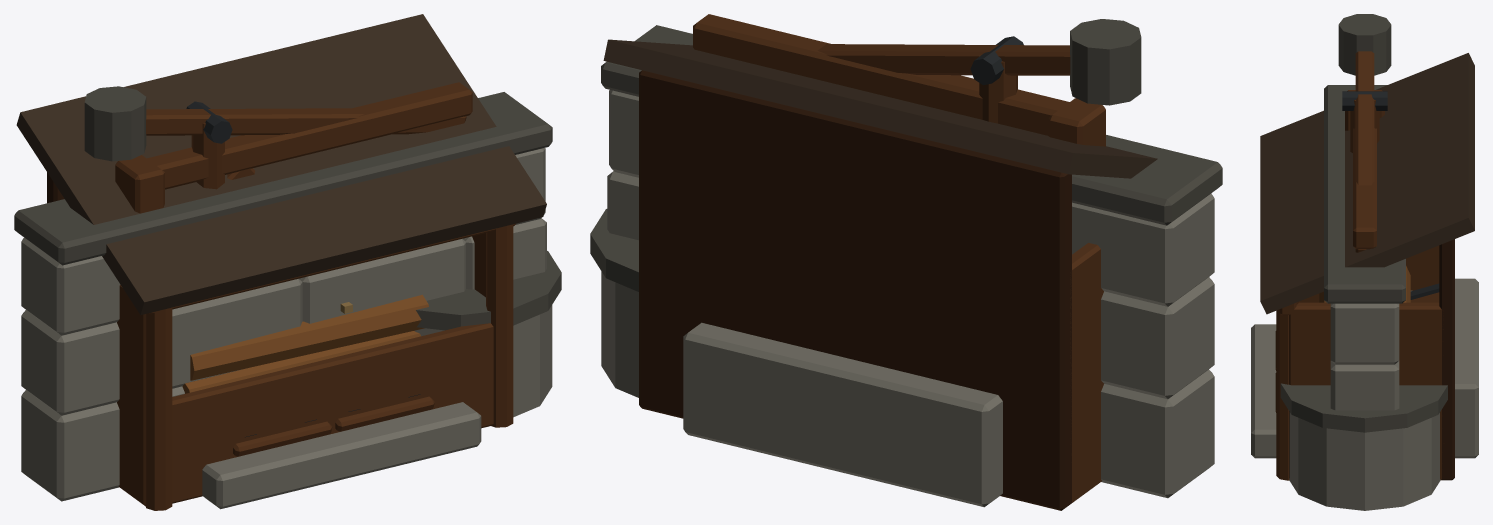
Rendered from plot_dressing.glb.
3 views of the same model, side by side, from view 1: azimuth 30°, elevation 25°; view 2: azimuth 150°, elevation 25°; view 3: azimuth 270°, elevation 25° (orthographic). The views are drawn at different scales.
Parts seen in each view (by area): view 1: LeanToRoof, LowFrontWall, Coping, KerbFront, Beam, Course0_0, Course1_2, Course1_0, Billet3_0, Course1_1, Course2_0, Post0.001 (+16 smaller); view 2: RearWall, KerbBack, LeanToRoof, Beam, Course0_0, Course1_0, Course2_0, Coping, SideWallL, SweepArm, Counterweight, WellDrum (+6 smaller); view 3: LeanToRoof, WellDrum, SideWallR, Coping, WellCoping, KerbBack, Course2_2, KerbFront, Course1_3, RearWall, Counterweight, SweepArm (+7 smaller).
Part boxes in pixels (x1,y1,x2,y2): LeanToRoof: (16,14,546,315); LowFrontWall: (172,323,493,503); Coping: (14,92,552,265); KerbFront: (202,402,481,509); Beam: (138,82,472,189); Course0_0: (21,386,184,501); Course1_2: (299,239,465,323); Course1_0: (21,310,119,415); Billet3_0: (190,294,428,380); Course1_1: (172,279,302,388); Course2_0: (21,237,120,335); Post0.001: (145,307,172,510); RearWall: (639,70,1071,510); KerbBack: (683,322,1002,507); LeanToRoof: (603,39,1157,178); Beam: (693,14,1078,135); Course0_0: (1101,369,1214,498); Course1_0: (1101,277,1214,399); Course2_0: (1072,193,1214,306); Coping: (601,25,1222,225); SideWallL: (1070,243,1103,503); SweepArm: (817,44,1070,75); Counterweight: (1070,19,1141,105); WellDrum: (601,271,638,397); LeanToRoof: (1260,53,1474,314); WellDrum: (1289,412,1440,510); SideWallR: (1289,302,1443,480); Coping: (1324,85,1405,303); WellCoping: (1280,383,1447,432); KerbBack: (1455,278,1478,458); Course2_2: (1330,303,1399,364); KerbFront: (1251,324,1276,458); Course1_3: (1330,361,1399,410); RearWall: (1439,239,1454,480); Counterweight: (1338,14,1391,75); SweepArm: (1355,51,1374,252).
Bounding box in the file's own units: 3.75 × 2.6 × 1.72.
Materials: 9 (9 with a texture image).
